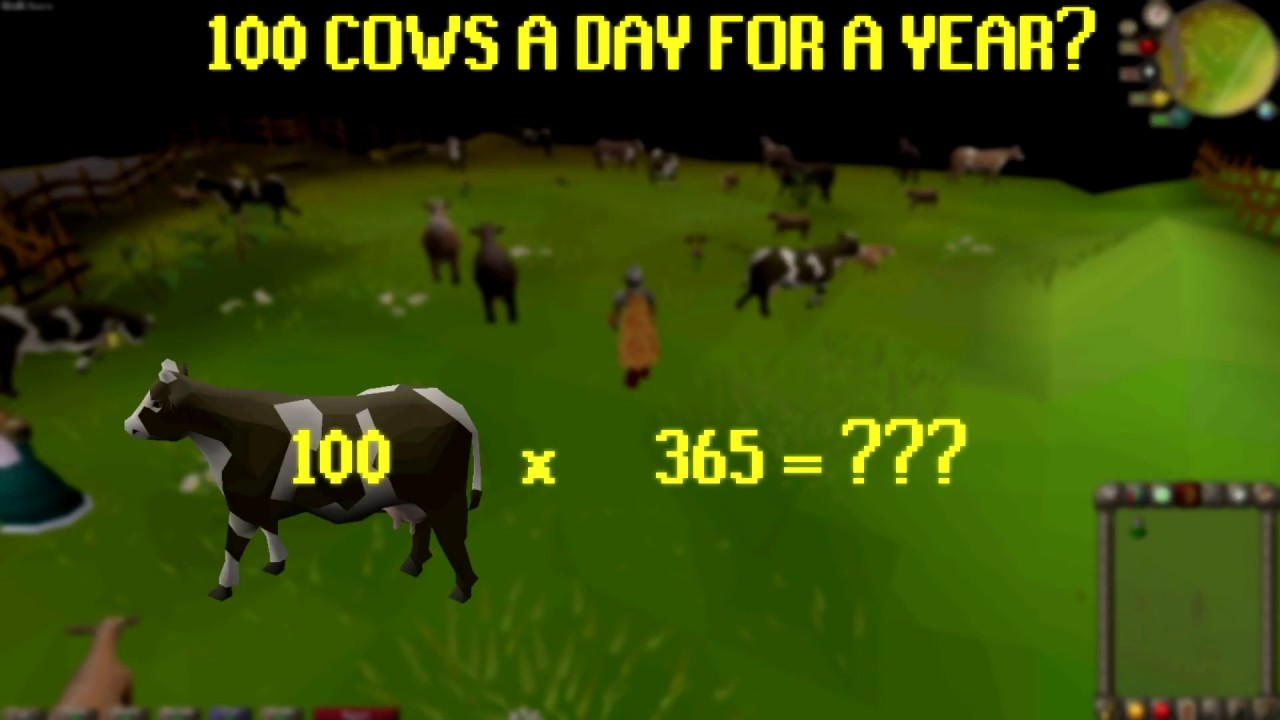rs_cow: (128, 355, 491, 606)
rs_player: (606, 265, 669, 398)
